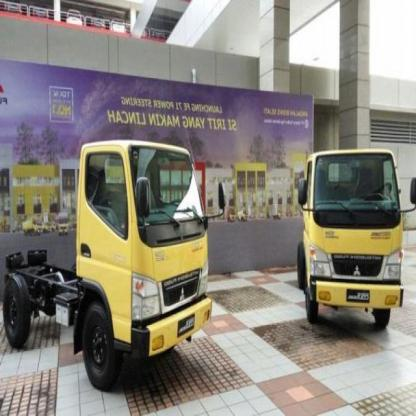truck: (2, 138, 226, 388), (300, 150, 416, 331)
